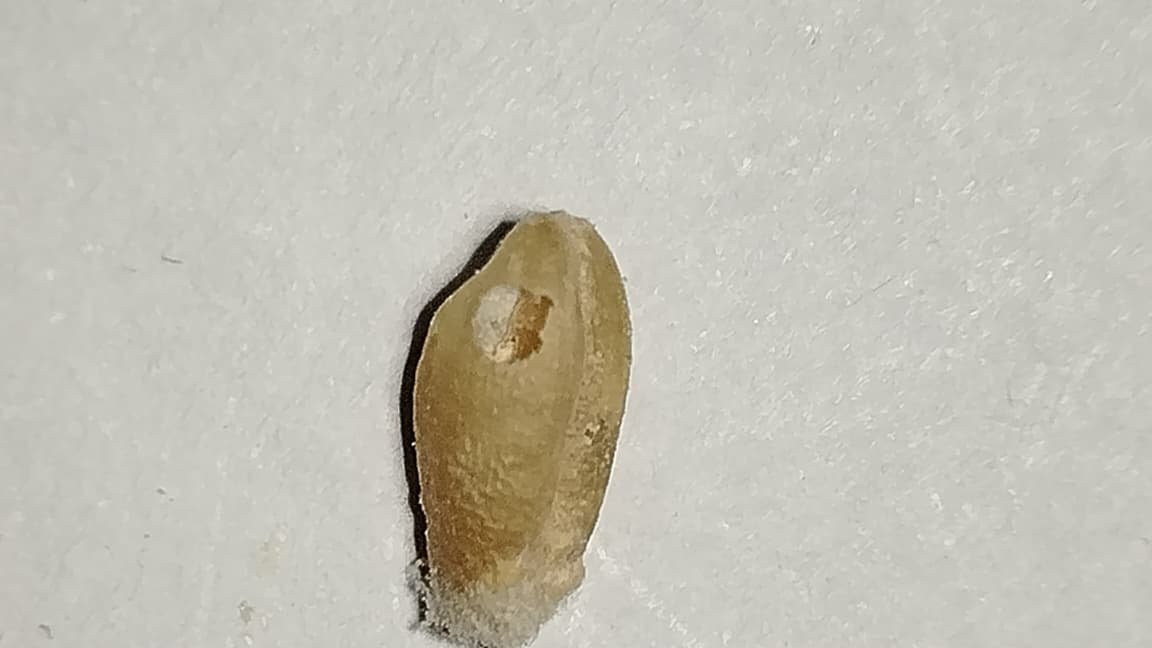damage: (415, 212, 630, 647)
insectdamage: (460, 276, 561, 380)
molddamage: (406, 557, 584, 647)
